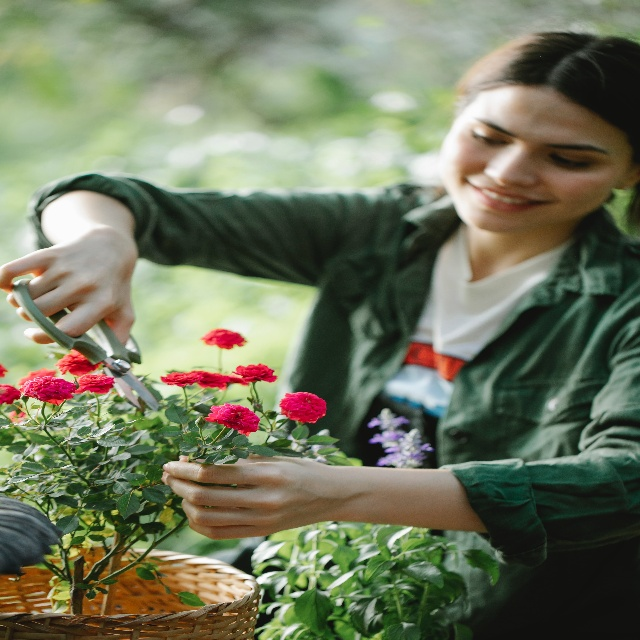Sin_guantes: (0, 226, 138, 345), (163, 453, 331, 540)
